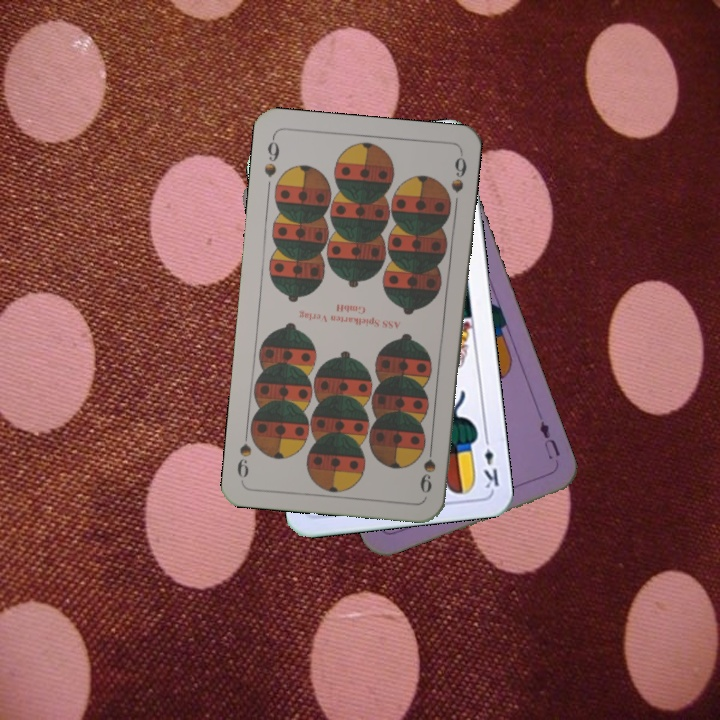EK: (479, 431, 502, 491)
EU: (535, 416, 563, 463)
S9: (416, 438, 438, 496), (260, 132, 282, 180)
